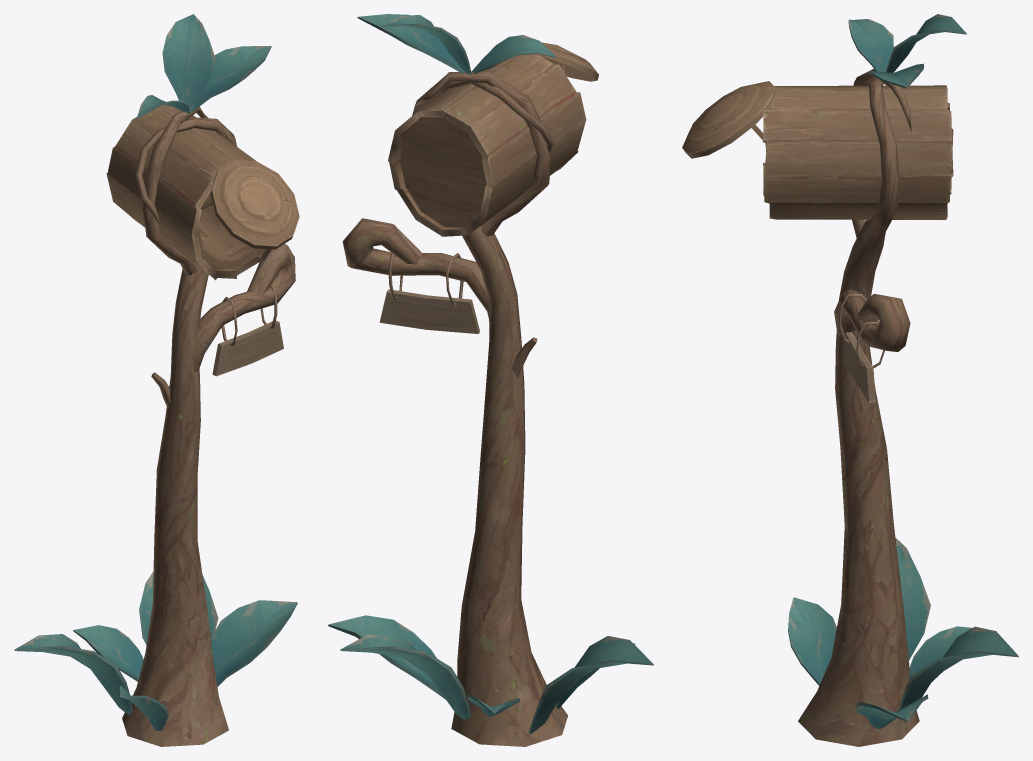
File: Homeworld_Exterior_Common_Decoration_Mail_01_Lod0.fbx
The picture shows the model from 3 angles, left to right: view 1: azimuth 30°, elevation 25°; view 2: azimuth 150°, elevation 25°; view 3: azimuth 270°, elevation 25°; orthographic projection. The views are drawn at different scales.
Visible parts, largest first — view 1: Homeworld_Exterior_Common_Decoration_Mail_01_Lod0; view 2: Homeworld_Exterior_Common_Decoration_Mail_01_Lod0; view 3: Homeworld_Exterior_Common_Decoration_Mail_01_Lod0.
Boxes of the visible parts, left/top/right/bottom form: Homeworld_Exterior_Common_Decoration_Mail_01_Lod0: left=14, top=14, right=299, bottom=746; Homeworld_Exterior_Common_Decoration_Mail_01_Lod0: left=328, top=14, right=653, bottom=746; Homeworld_Exterior_Common_Decoration_Mail_01_Lod0: left=682, top=14, right=1018, bottom=746.
Size of the model in its own units: 0.9009 by 1.95 by 0.821.
